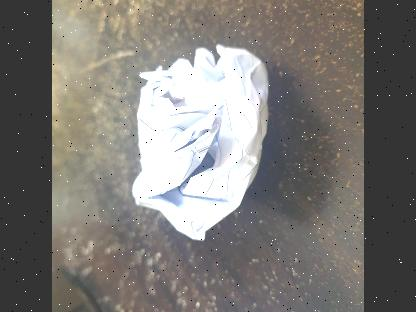Others: (126, 34, 272, 244)
